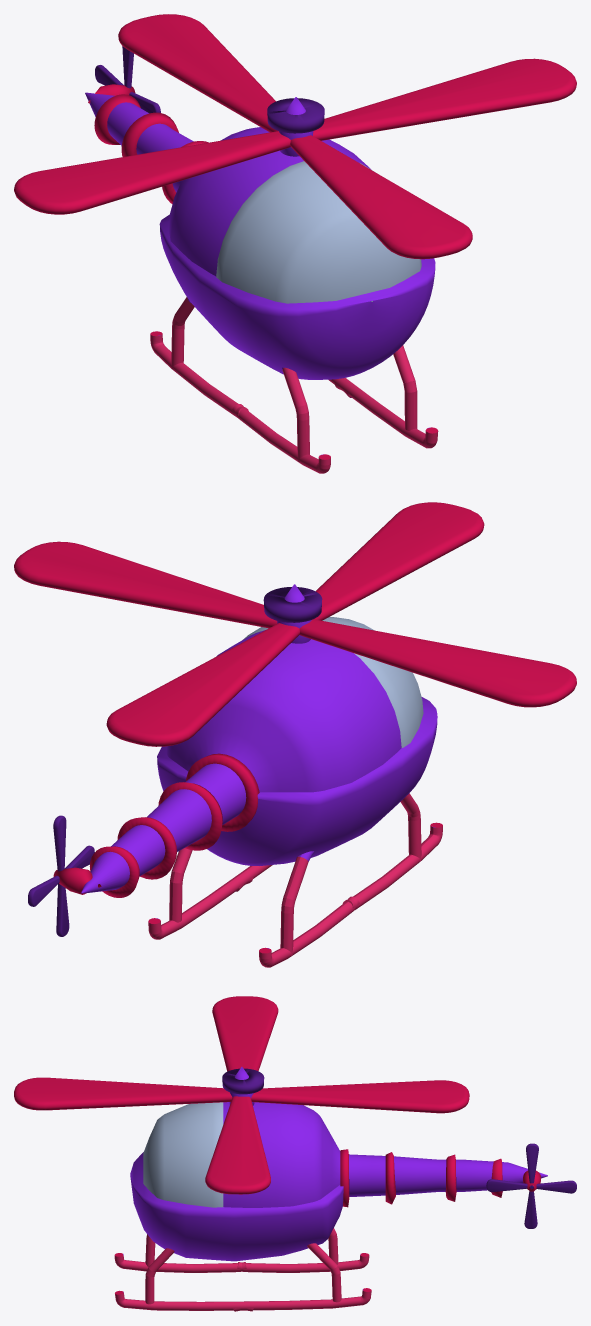
The model's file is Obs-Heli.fbx.
3 renders of one model, top to bottom at view 1: azimuth 30°, elevation 25°; view 2: azimuth 150°, elevation 25°; view 3: azimuth 270°, elevation 25°, orthographic. The views are drawn at different scales.
Parts seen in each view (by area): view 1: Helicopter, propeller1, propeller2; view 2: Helicopter, propeller1, propeller2; view 3: Helicopter, propeller1, propeller2.
Boxes of the visible parts, <box> form: Helicopter: <box>85,84,438,473</box>; propeller1: <box>14,14,576,259</box>; propeller2: <box>95,46,160,146</box>; Helicopter: <box>53,584,442,967</box>; propeller1: <box>14,502,576,746</box>; propeller2: <box>28,815,94,936</box>; Helicopter: <box>114,1067,547,1311</box>; propeller1: <box>14,996,469,1194</box>; propeller2: <box>486,1143,576,1228</box>.
Size of the model in its own units: 6.63 by 3.63 by 8.2.
